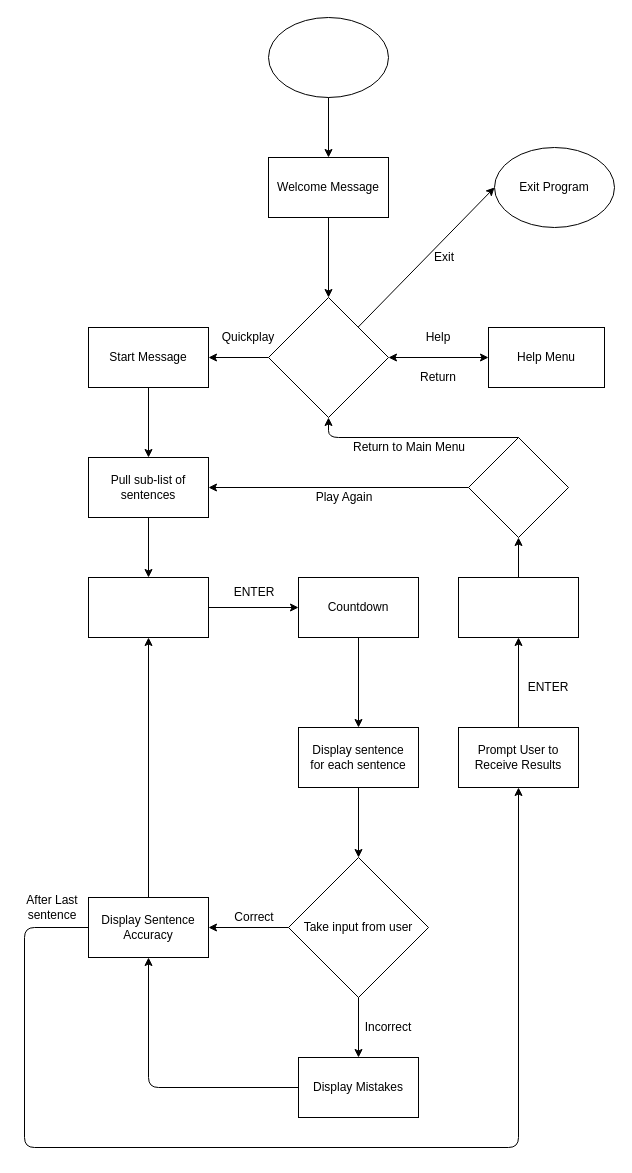
The diagram is 632 pixels wide and 1173 high, and some of its shapes have lost their labels. The shapes that lost their labels are listed below. From the top down, each one's centre as x and y in pixels, then its label:
the point at 328,57: Program Start
the point at 328,357: Main Menu
the point at 518,487: Play Again?
the point at 148,607: Ready Check
the point at 518,607: Display session results
